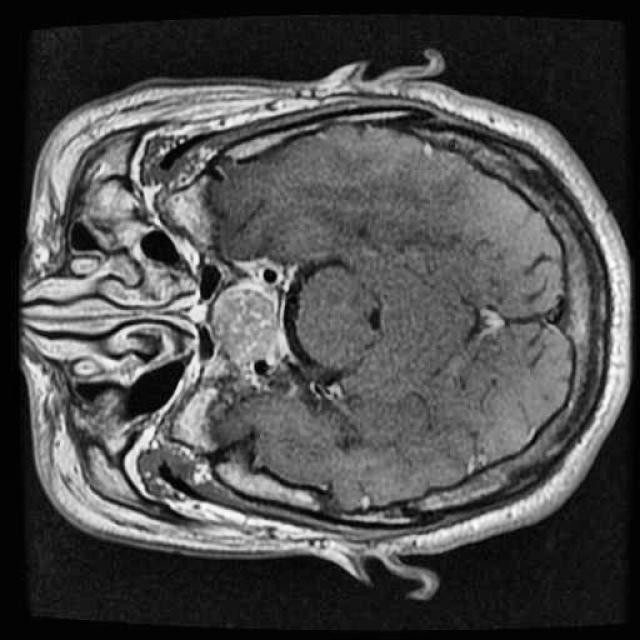Tumor: (203, 275, 298, 390)
